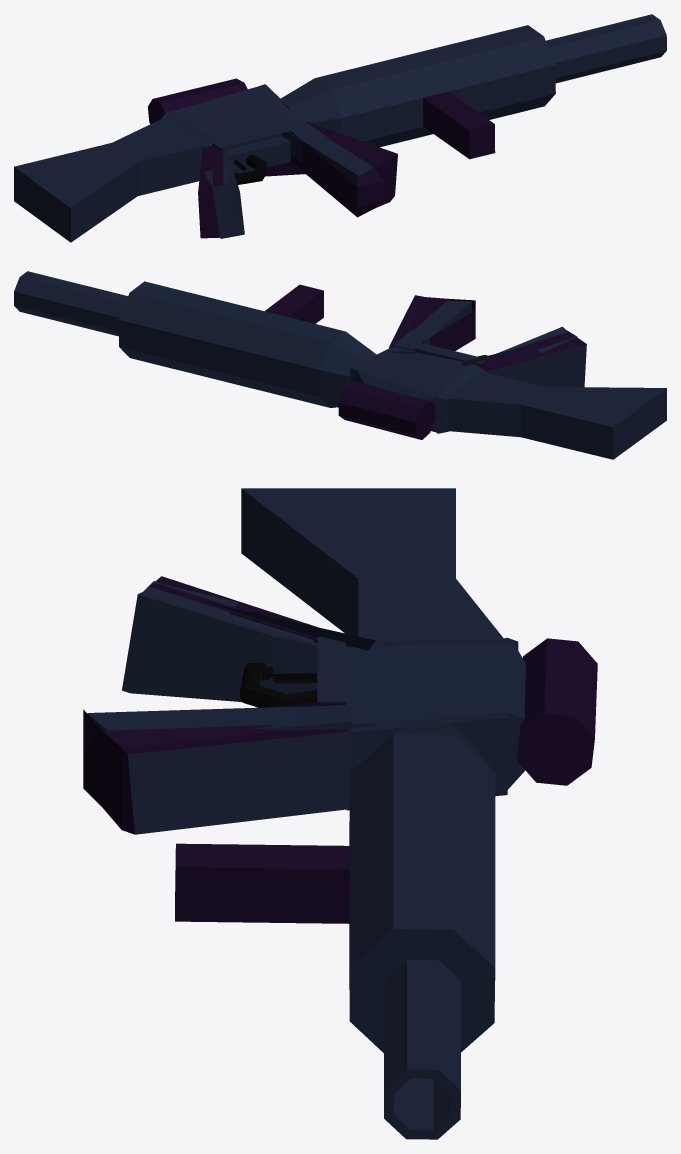
The model's file is oruzhie_fin.fbx.
3 renders of one model, top to bottom at view 1: azimuth 30°, elevation 25°; view 2: azimuth 150°, elevation 25°; view 3: azimuth 270°, elevation 25°, orthographic. The views are drawn at different scales.
Visible parts, largest first — view 1: Цилиндр; view 2: Цилиндр; view 3: Цилиндр.
Part boxes in pixels (left/top/right/bottom): Цилиндр: left=14, top=14, right=666, bottom=242; Цилиндр: left=14, top=271, right=666, bottom=459; Цилиндр: left=83, top=488, right=597, bottom=1139.
Size of the model in its own units: 1557 by 167 by 580.
